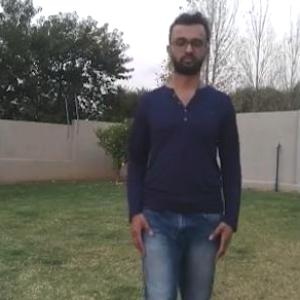follow: (142, 15, 232, 299)
